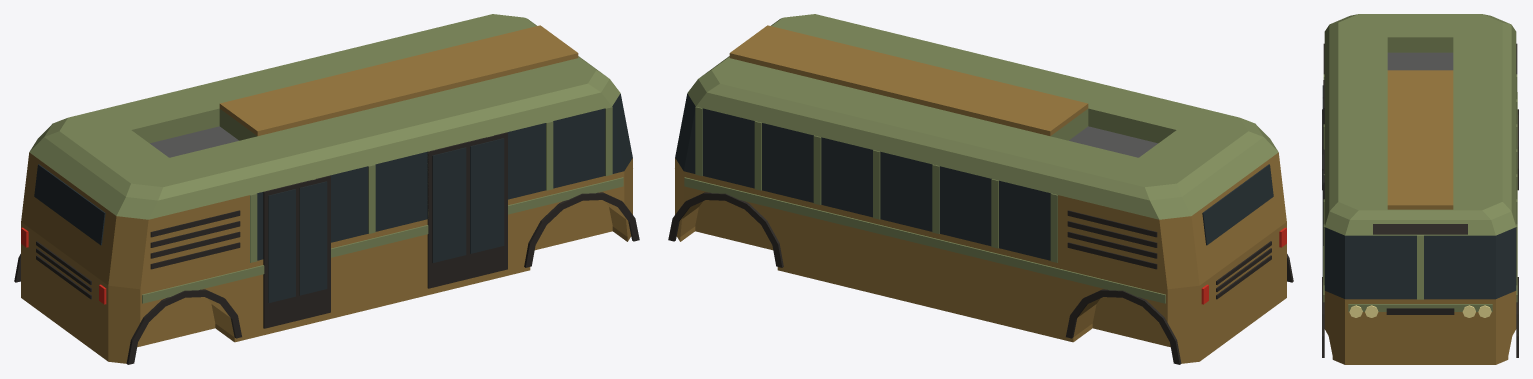
The model's file is base_bus.glb.
3 renders of one model, left to right at view 1: azimuth 30°, elevation 25°; view 2: azimuth 150°, elevation 25°; view 3: azimuth 270°, elevation 25°, orthographic. The views are drawn at different scales.
Parts seen in each view (by area): view 1: base_bus; view 2: base_bus; view 3: base_bus.
Part boxes in pixels (x1,y1,x2,y2): base_bus: (14, 14, 639, 364); base_bus: (668, 14, 1293, 364); base_bus: (1322, 14, 1518, 364).
Size of the model in its own units: 7.79 by 2.39 by 2.9.
